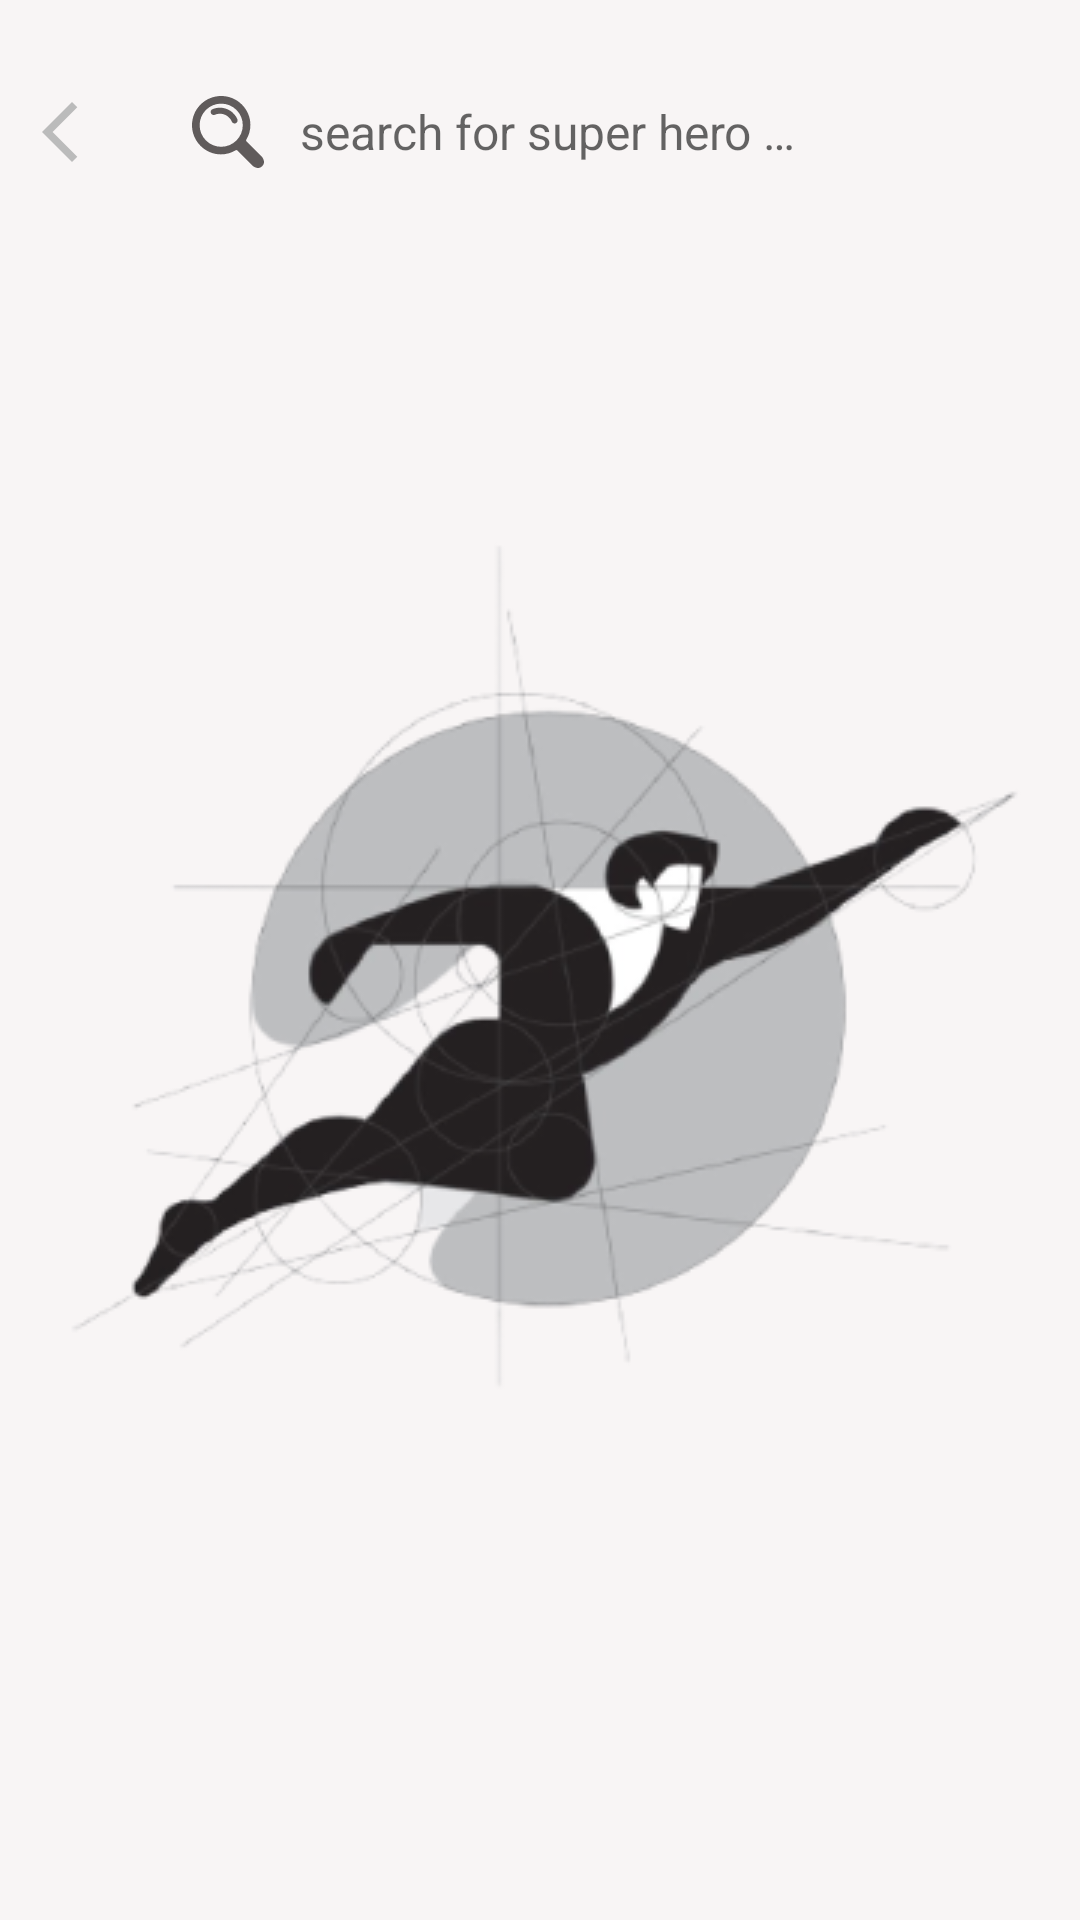

Icons on this 1080w x 1920h Android screen, each with its box as (x1=x1, y1=y1, x2=x2, y2=y2):
arrow back: (x1=42, y1=102, x2=77, y2=162)
